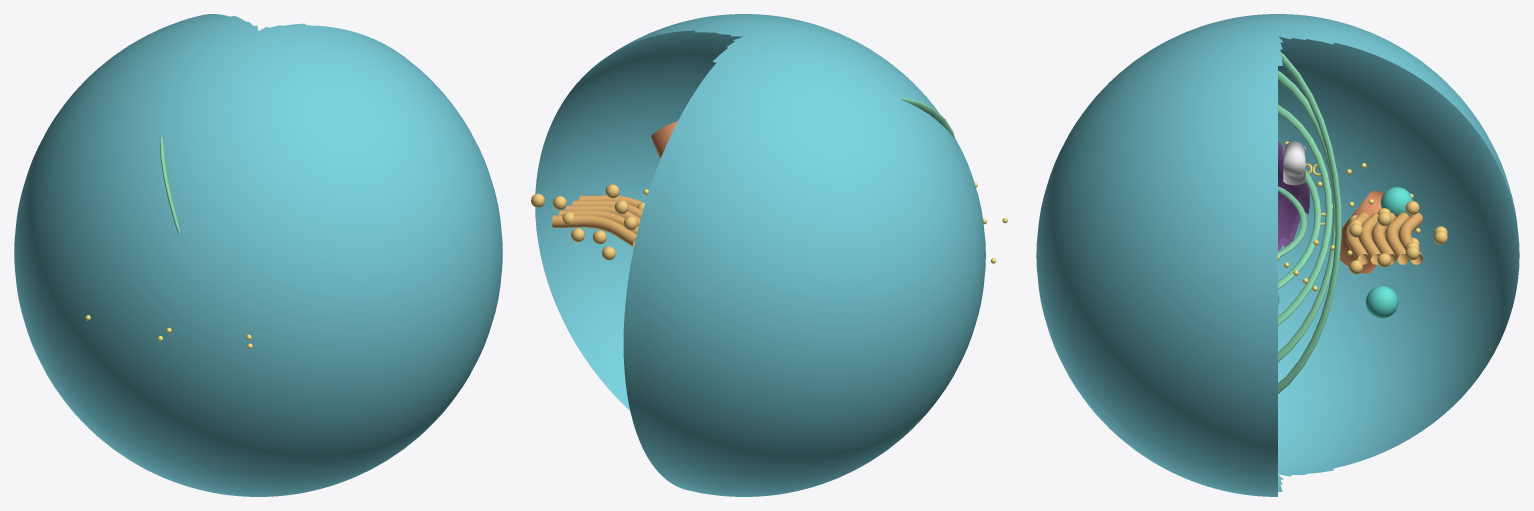
The model's file is cell_realistic.glb.
The picture shows the model from 3 angles, left to right: view 1: azimuth 30°, elevation 25°; view 2: azimuth 150°, elevation 25°; view 3: azimuth 270°, elevation 25°; orthographic projection.
Parts seen in each view (by area): view 1: Plasma_Membrane_Cutaway; view 2: Plasma_Membrane_Cutaway, Golgi_Cisterna_5; view 3: Plasma_Membrane_Cutaway, ER_Cisterna_5, ER_Cisterna_3, ER_Cisterna_4, Nucleus_Inner_Membrane, Mitochondrion_2_Outer, ER_Cisterna_2, Lysosome_1, Centriole_Daughter, Golgi_Cisterna_4, Lysosome_4, ER_Cisterna_1 (+4 smaller).
Boxes of the visible parts, <box> form: Plasma_Membrane_Cutaway: <box>14,14,502,496</box>; Plasma_Membrane_Cutaway: <box>535,14,985,496</box>; Golgi_Cisterna_5: <box>552,214,636,246</box>; Plasma_Membrane_Cutaway: <box>1036,14,1519,496</box>; ER_Cisterna_5: <box>1278,52,1341,393</box>; ER_Cisterna_3: <box>1278,104,1332,325</box>; ER_Cisterna_4: <box>1278,70,1335,362</box>; Nucleus_Inner_Membrane: <box>1278,150,1298,245</box>; Mitochondrion_2_Outer: <box>1340,191,1409,273</box>; ER_Cisterna_2: <box>1278,169,1321,288</box>; Lysosome_1: <box>1365,286,1398,318</box>; Centriole_Daughter: <box>1283,141,1305,176</box>; Golgi_Cisterna_4: <box>1385,212,1409,264</box>; Lysosome_4: <box>1380,187,1412,216</box>; ER_Cisterna_1: <box>1278,186,1307,256</box>.
Size of the model in its own units: 6.53 by 6.5 by 6.5.
